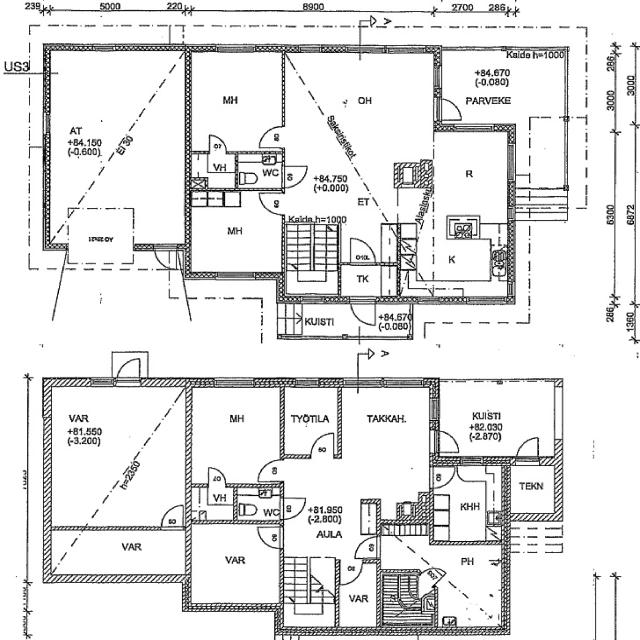door: (349, 297, 379, 328), (348, 236, 377, 266), (513, 435, 542, 462), (115, 356, 142, 385), (308, 431, 337, 458), (257, 456, 284, 483), (159, 503, 186, 530), (436, 96, 464, 122), (256, 124, 285, 149), (435, 428, 462, 454), (282, 162, 309, 188), (256, 524, 283, 549), (354, 534, 382, 558), (258, 190, 283, 215), (339, 561, 364, 586), (282, 496, 308, 520), (432, 464, 455, 488), (153, 246, 176, 269), (205, 464, 229, 486), (206, 132, 229, 153)
window: (549, 387, 566, 441), (213, 376, 255, 390), (382, 376, 424, 390), (504, 143, 516, 180), (215, 271, 255, 282), (451, 124, 492, 134), (293, 377, 321, 390), (459, 456, 486, 469), (432, 64, 443, 92), (37, 267, 50, 274)
zone: (338, 386, 435, 489), (190, 52, 284, 152), (435, 382, 557, 459), (190, 386, 282, 484), (188, 190, 283, 278), (188, 522, 281, 607), (404, 235, 509, 297), (434, 466, 503, 544), (434, 553, 503, 630), (65, 206, 135, 267), (281, 386, 340, 456), (520, 118, 566, 192), (503, 461, 558, 520), (335, 566, 381, 630), (339, 264, 397, 300), (188, 485, 237, 524), (236, 152, 284, 190), (190, 152, 237, 189), (381, 596, 434, 628), (237, 488, 283, 524), (507, 524, 563, 548), (160, 503, 186, 530)
